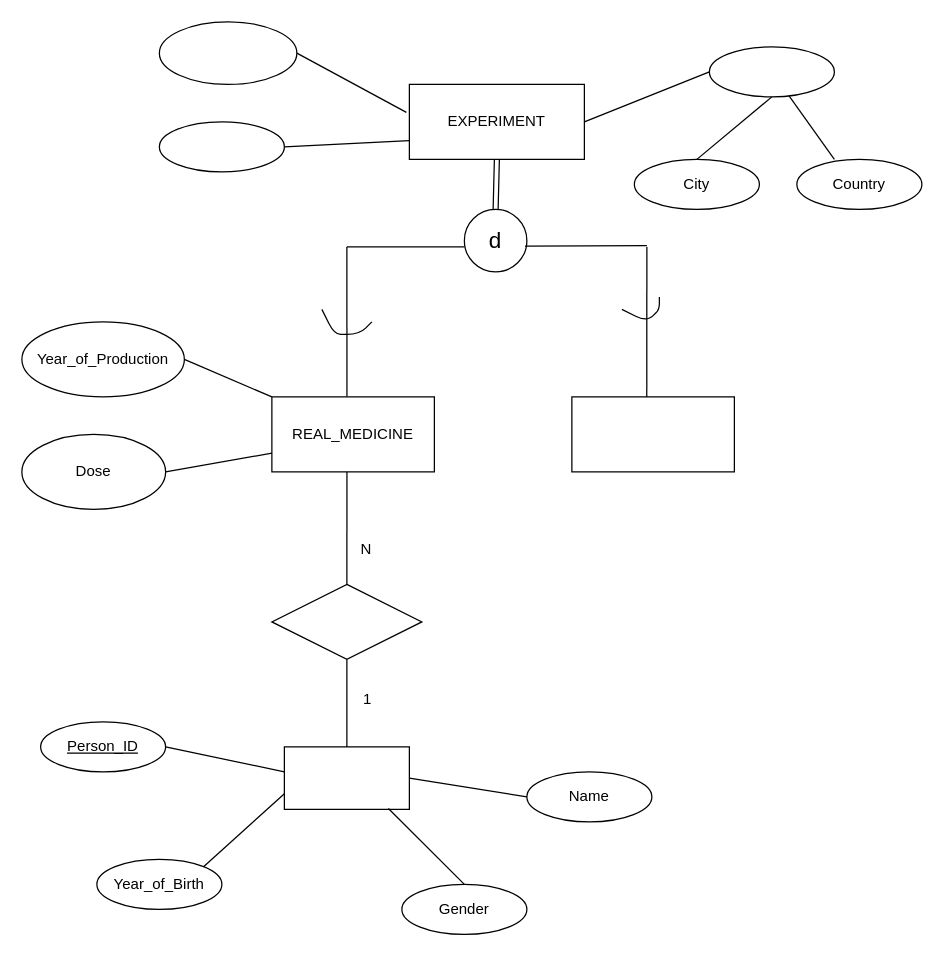
Some shapes in this 944 by 956 pixel diagram are drawn without their labels. Each missing label, with the centre of its shape:
EX_ID: (x=227, y=52)
GIVEN: (x=346, y=621)
PERSON: (x=346, y=777)
Place: (x=771, y=71)
PLACEBO: (x=652, y=434)
Year: (x=221, y=146)
